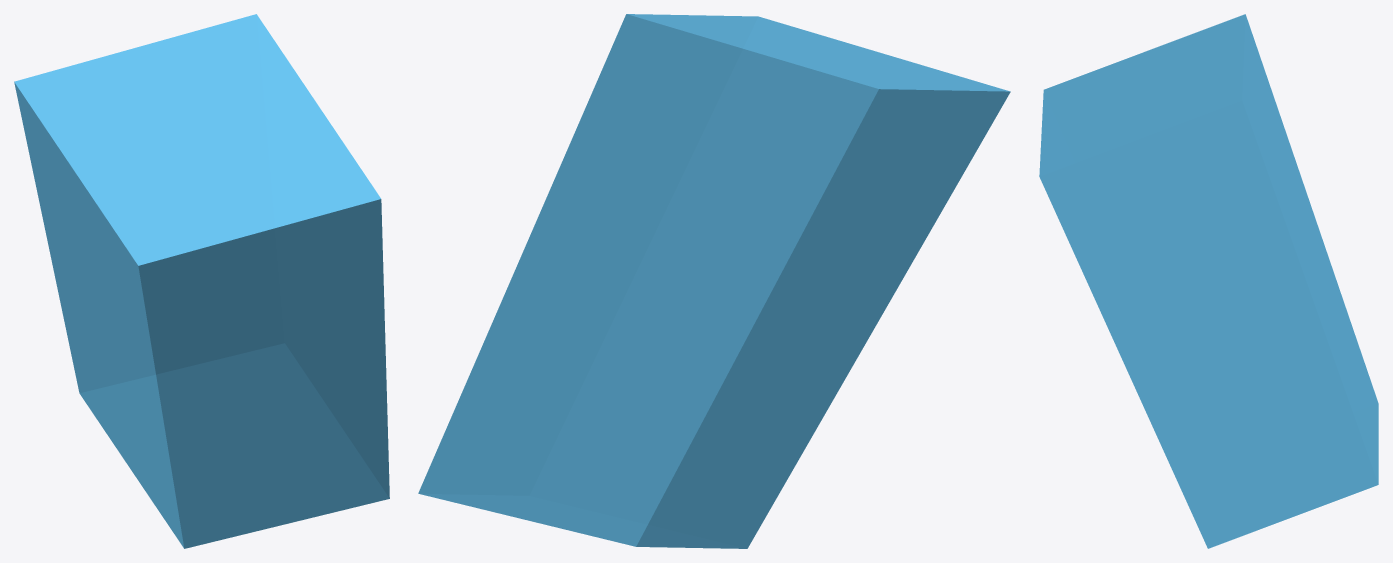
Rendered from Event_421364160_HBrechit_10.fbx.
The picture shows the model from 3 angles, left to right: view 1: azimuth 30°, elevation 25°; view 2: azimuth 150°, elevation 25°; view 3: azimuth 270°, elevation 25°; orthographic projection. The views are drawn at different scales.
Visible parts, largest first — view 1: Model; view 2: Model; view 3: Model.
Part boxes in pixels (x1,y1,x2,y2): Model: [14, 14, 389, 548]; Model: [418, 14, 1010, 548]; Model: [1039, 14, 1378, 548].
Size of the model in its own units: 0.7197 by 0.9691 by 0.7378.
